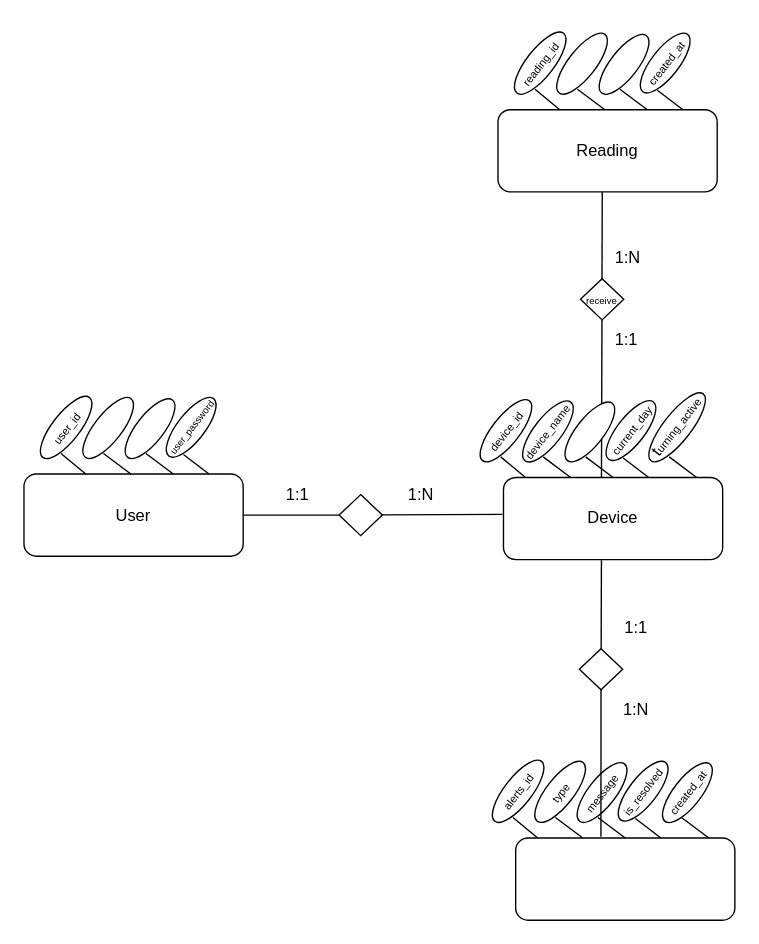
This 759x944 diagram has some shape labels left out. Here are the shapes that lost their labels. From the top down, the centre of each, then its label:
the point at 581,63: temperature
the point at 623,64: humdity
the point at 107,427: user_name
the point at 149,428: user_email
the point at 589,431: mode
the point at 360,514: has
the point at 600,668: produces
the point at 624,878: Alert
